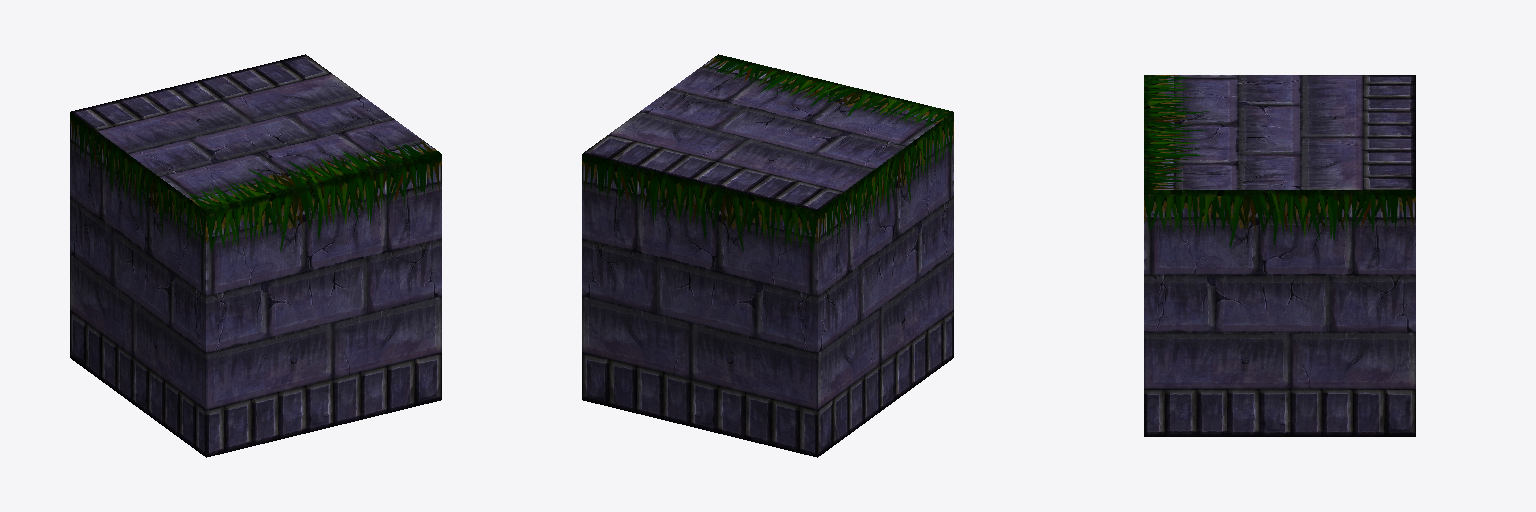
The picture shows the model from 3 angles: view 1: azimuth 30°, elevation 25°; view 2: azimuth 150°, elevation 25°; view 3: azimuth 270°, elevation 25°; orthographic projection.
Parts seen in each view (by area): view 1: Cube_Cube.001; view 2: Cube_Cube.001; view 3: Cube_Cube.001.
Part boxes in pixels (left/top/right/bottom): Cube_Cube.001: left=70, top=54, right=441, bottom=457; Cube_Cube.001: left=582, top=54, right=953, bottom=457; Cube_Cube.001: left=1144, top=75, right=1415, bottom=436.
Bounding box in the file's own units: 2 × 2 × 2.
Materials: 1 (1 with a texture image).